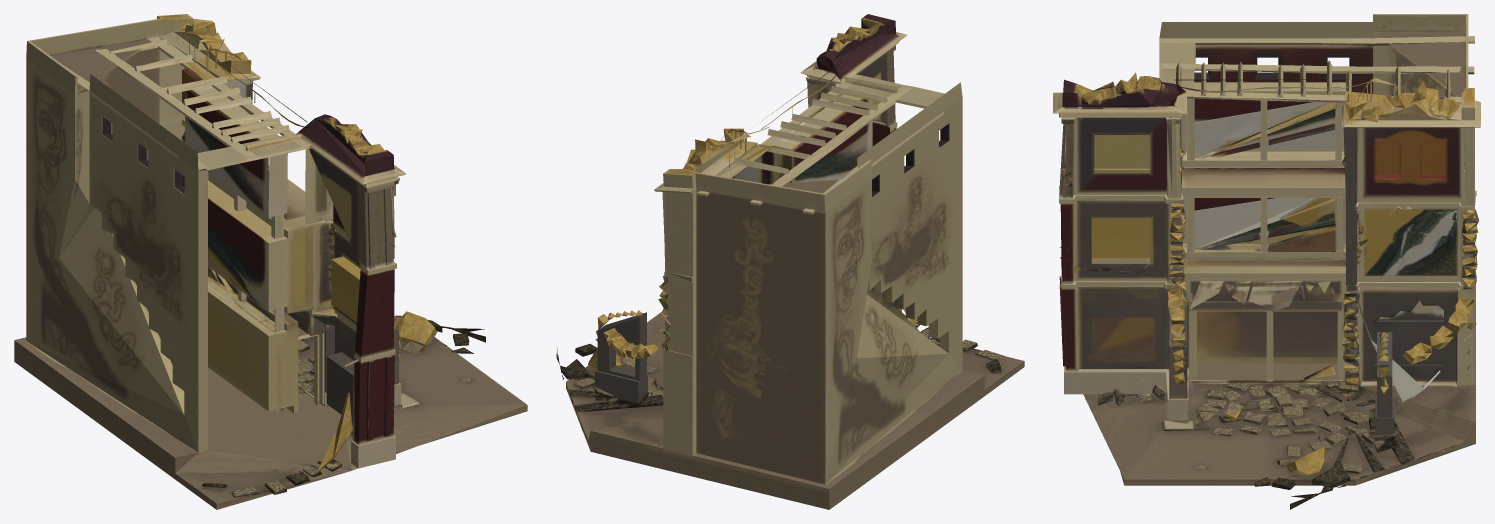
The model's file is factory_ruin.glb.
3 renders of one model, left to right at view 1: azimuth 30°, elevation 25°; view 2: azimuth 150°, elevation 25°; view 3: azimuth 270°, elevation 25°, orthographic. The views are drawn at different scales.
Parts seen in each view (by area): view 1: tripo_node_dee64748-8a49-40c5-94e8-a90dd7cc5350; view 2: tripo_node_dee64748-8a49-40c5-94e8-a90dd7cc5350; view 3: tripo_node_dee64748-8a49-40c5-94e8-a90dd7cc5350.
Part boxes in pixels (box(x1,y1,x2,y2)): tripo_node_dee64748-8a49-40c5-94e8-a90dd7cc5350: box(14, 14, 527, 509); tripo_node_dee64748-8a49-40c5-94e8-a90dd7cc5350: box(556, 14, 1024, 509); tripo_node_dee64748-8a49-40c5-94e8-a90dd7cc5350: box(1053, 14, 1480, 509).
Bounding box in the file's own units: 0.998 × 0.8418 × 0.998.
Materials: 1 (1 with a texture image).
